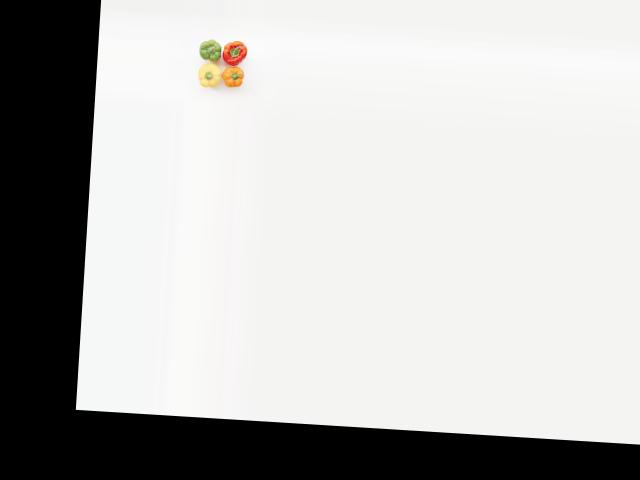bell_pepper: (191, 37, 227, 64)
